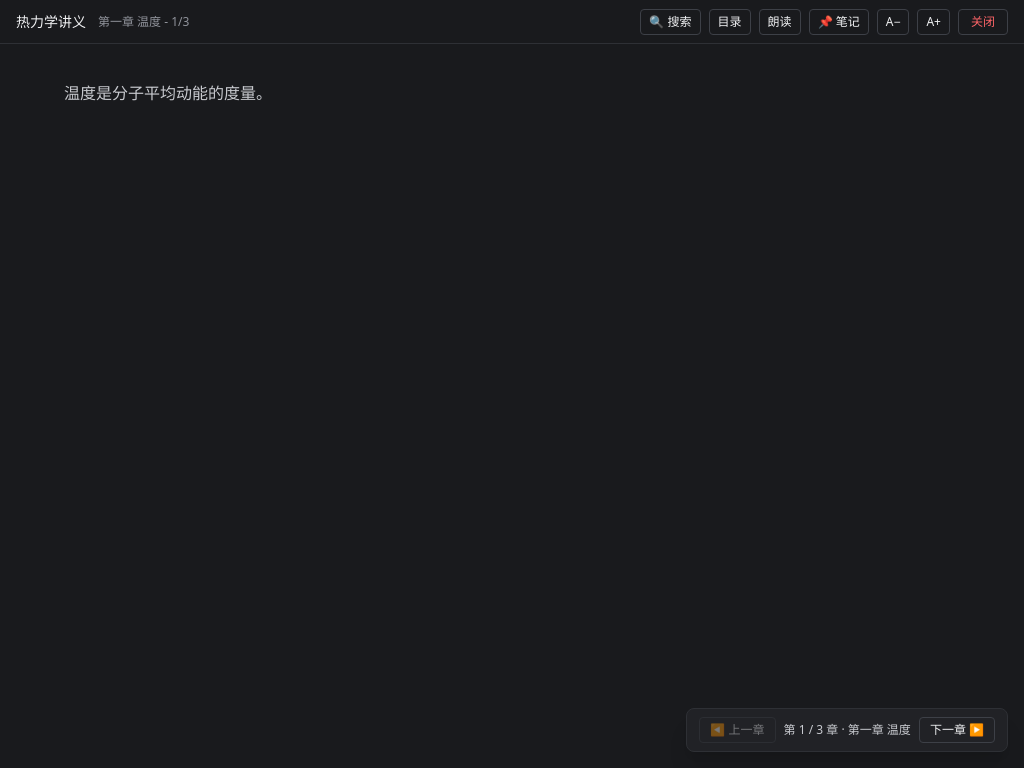
Scenario: EpubReaderView — search › counts matches per chapter and across the book
Expected: the text "温度是分子平均动能的度量。" is shown, top-left (64, 82), bottom-right (272, 104)
Step 1. Press f
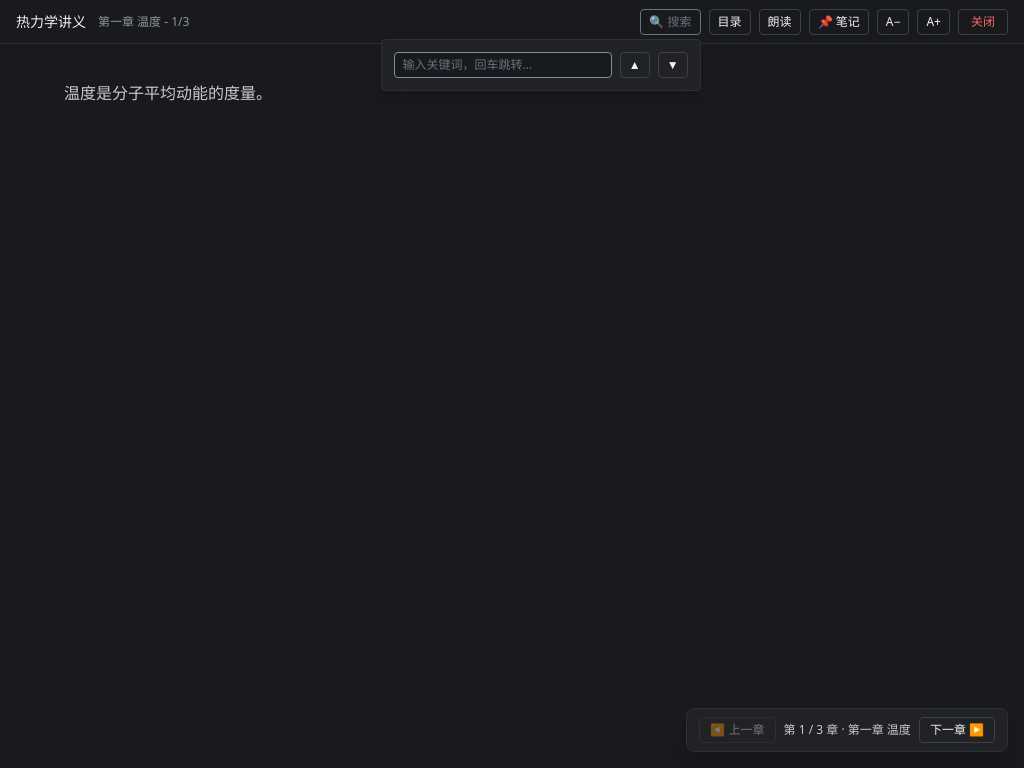
Step 2. Type "熵" into the field with placeholder "输入关键词，回车跳转..." → (503,65), box top-left (394, 52), bottom-right (612, 78)
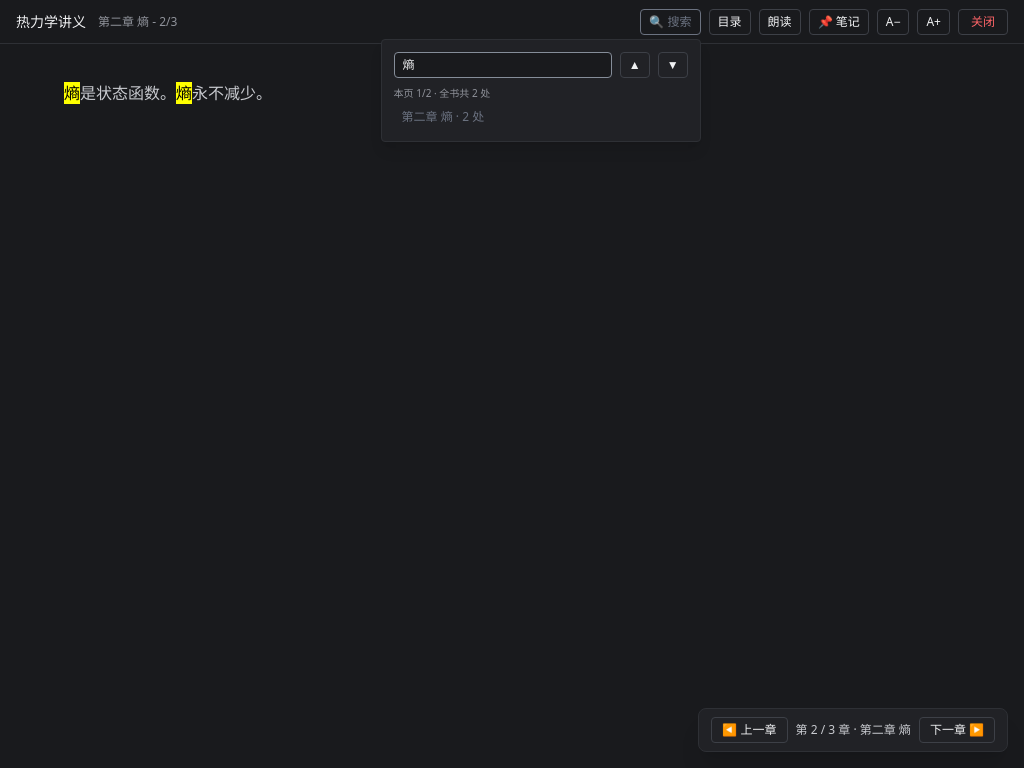
Result: the text "本页 1/2 · 全书共 2 处" is shown at top-left (394, 86), bottom-right (490, 100)
Result: the button "第二章 熵 · 2 处" is shown at top-left (394, 105), bottom-right (688, 129)
// Escape closes the popover.
Step 3. Press Escape
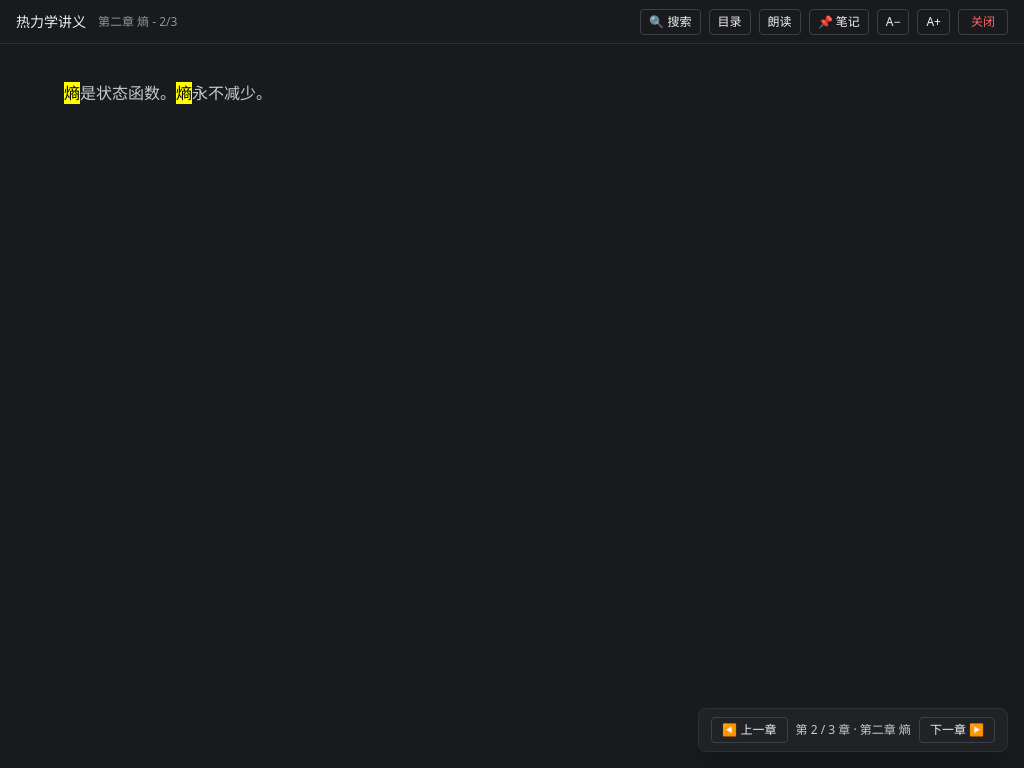
Result: the field with placeholder "输入关键词，回车跳转..." is gone
